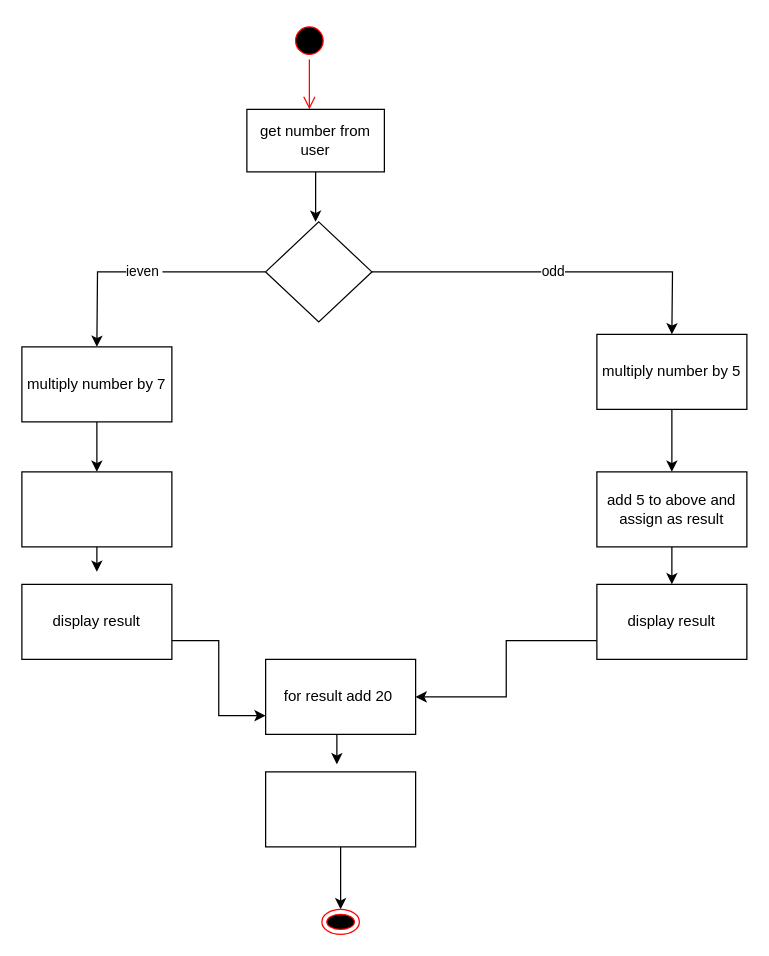
This 769x956 diagram has some shape labels left out. Each missing label, with the centre of its shape:
"add 7 to above and assign as result" belongs at pixel 96 509.
"display output" belongs at pixel 340 809.
"if even or odd" belongs at pixel 318 271.
